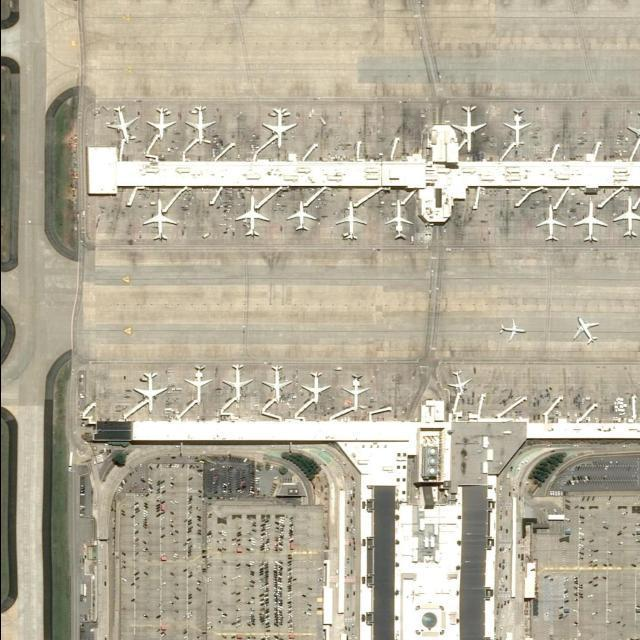Aircraft: (451, 105, 489, 153), (535, 205, 574, 247), (574, 202, 612, 244), (143, 198, 179, 242), (133, 371, 168, 415), (236, 195, 272, 237), (182, 364, 215, 408), (263, 109, 297, 150), (336, 201, 370, 241), (383, 200, 413, 242), (186, 106, 217, 146), (222, 365, 254, 403), (264, 364, 295, 402), (503, 109, 533, 148), (108, 107, 138, 146), (342, 375, 372, 411), (146, 107, 176, 143), (614, 199, 640, 239), (302, 373, 331, 407), (288, 202, 320, 232), (573, 316, 601, 345), (446, 369, 471, 397), (499, 318, 527, 342), (626, 111, 640, 153)
